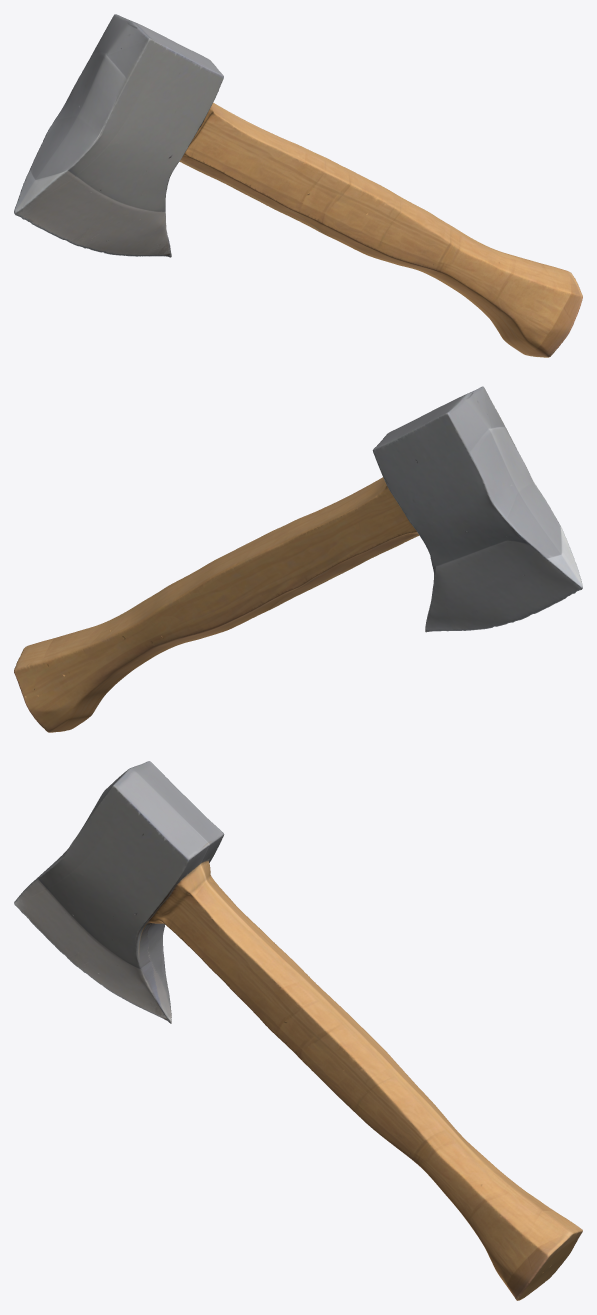
The model's file is low_poly_axe.glb.
3 renders of one model, top to bottom at view 1: azimuth 30°, elevation 25°; view 2: azimuth 150°, elevation 25°; view 3: azimuth 330°, elevation 25°, orthographic.
Visible parts, largest first — view 1: Object_4; view 2: Object_4; view 3: Object_4.
Part boxes in pixels (<box>): Object_4: <box>14,14,582,357</box>; Object_4: <box>14,386,582,732</box>; Object_4: <box>14,761,582,1300</box>.
Size of the model in its own units: 2 by 1.48 by 0.2558.
Materials: 1 (1 with a texture image).
